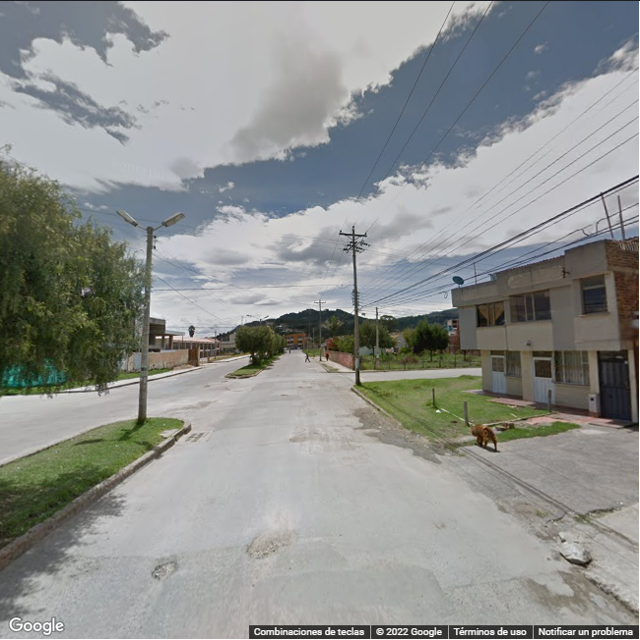D10: (444, 572, 525, 590)
D40: (237, 529, 306, 558), (157, 553, 179, 582)
